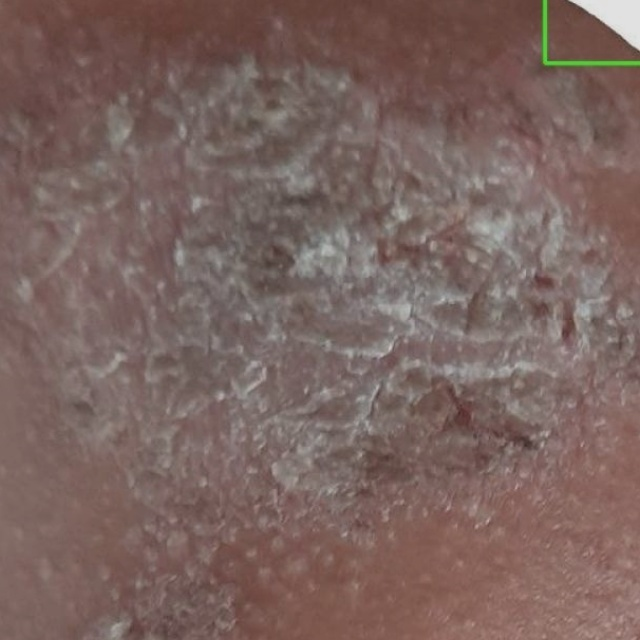Contact Dermatitis: (544, 0, 639, 63)
